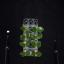leaf: (37, 26, 44, 33), (31, 24, 36, 32), (26, 28, 32, 34), (19, 42, 25, 48), (25, 41, 31, 47), (26, 50, 32, 56), (30, 34, 36, 40), (36, 34, 42, 40), (36, 51, 42, 57), (36, 41, 41, 48), (20, 35, 26, 40), (31, 42, 36, 47), (20, 27, 26, 31), (20, 52, 26, 56), (20, 24, 26, 27), (26, 34, 30, 38), (32, 50, 35, 55)
